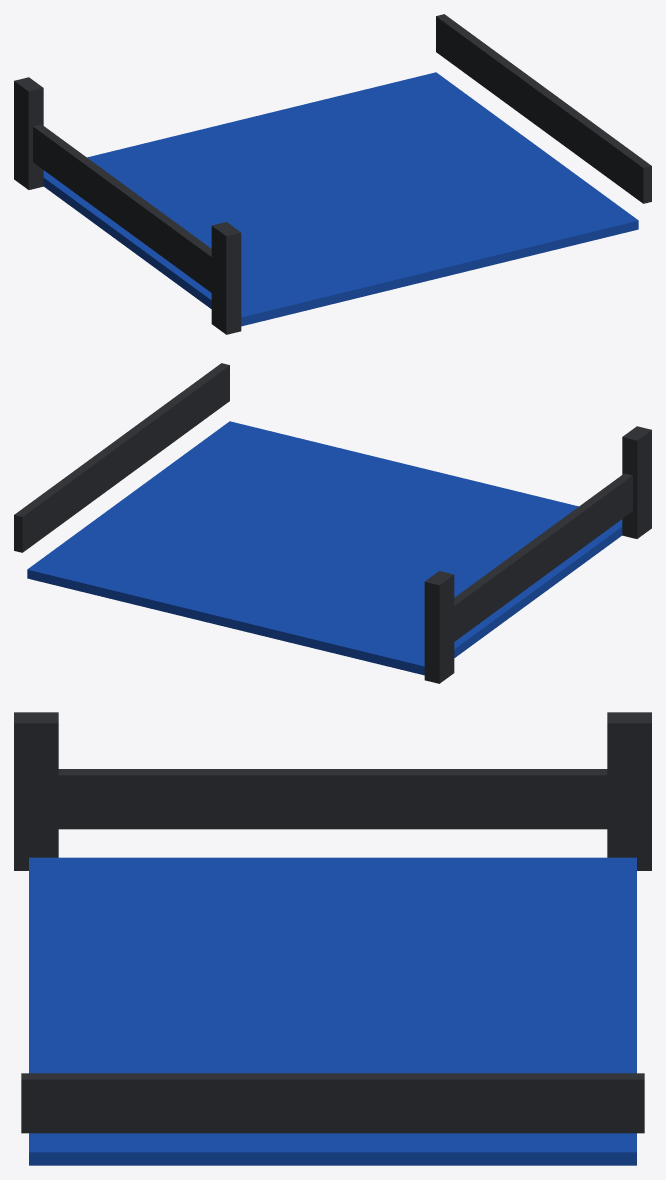
File: carriage.dae
The picture shows the model from 3 angles, top to bottom: view 1: azimuth 30°, elevation 25°; view 2: azimuth 150°, elevation 25°; view 3: azimuth 270°, elevation 25°; orthographic projection. The views are drawn at different scales.
Visible parts, largest first — view 1: mesh; view 2: mesh; view 3: mesh.
Boxes of the visible parts, <box> form: mesh: <box>14,14,651,334</box>; mesh: <box>14,363,651,683</box>; mesh: <box>14,712,651,1165</box>.
Bounding box in the file's own units: 1 × 0.86 × 0.22.
